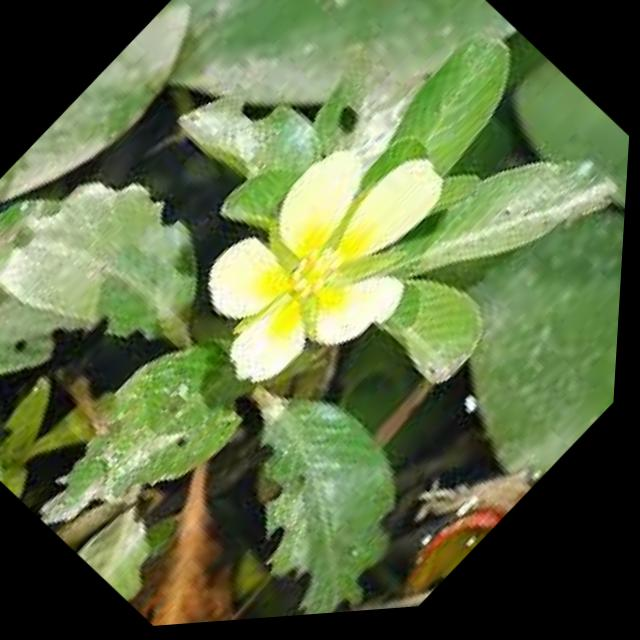Flower: (142, 81, 512, 457)
